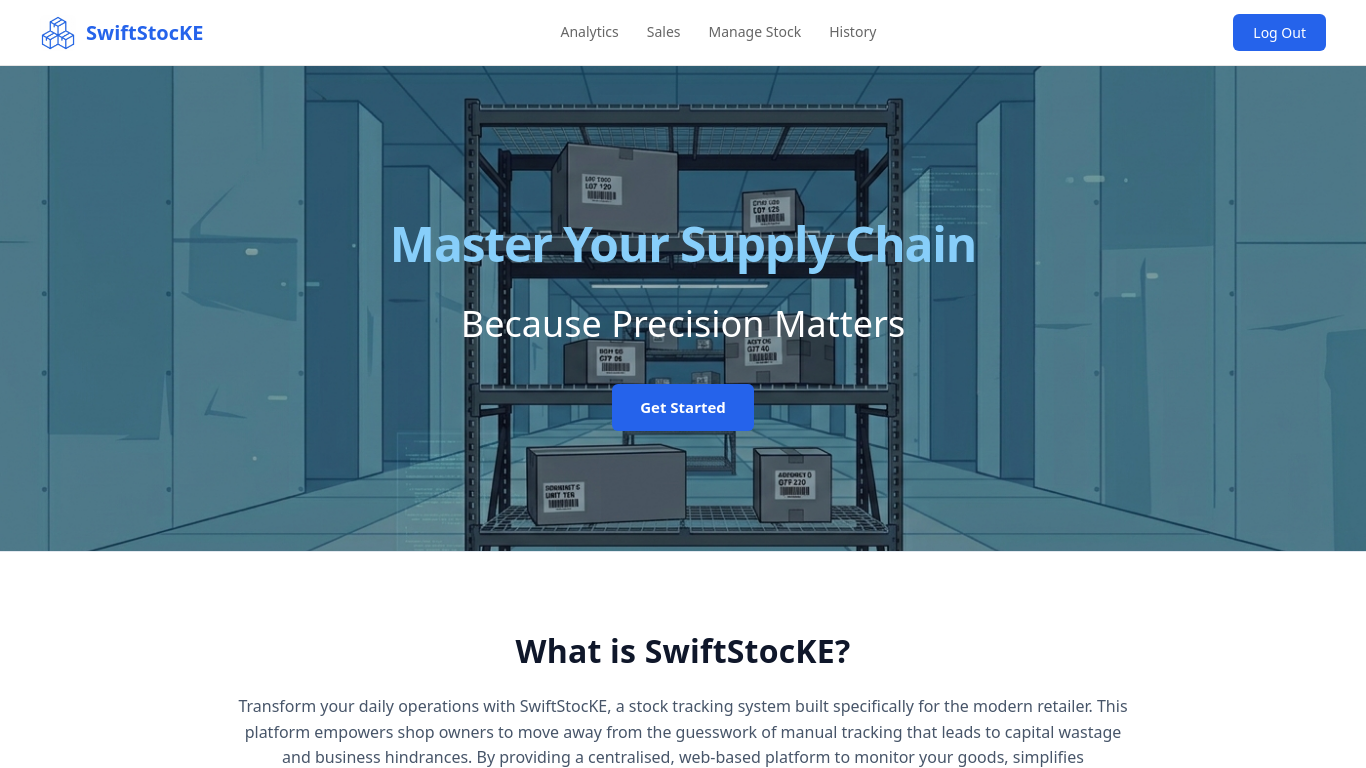
Home Page › navigates to sign up page on CTA button click
Click the link with test id "get-started-btn" at (683, 408), box [612, 384, 754, 431]
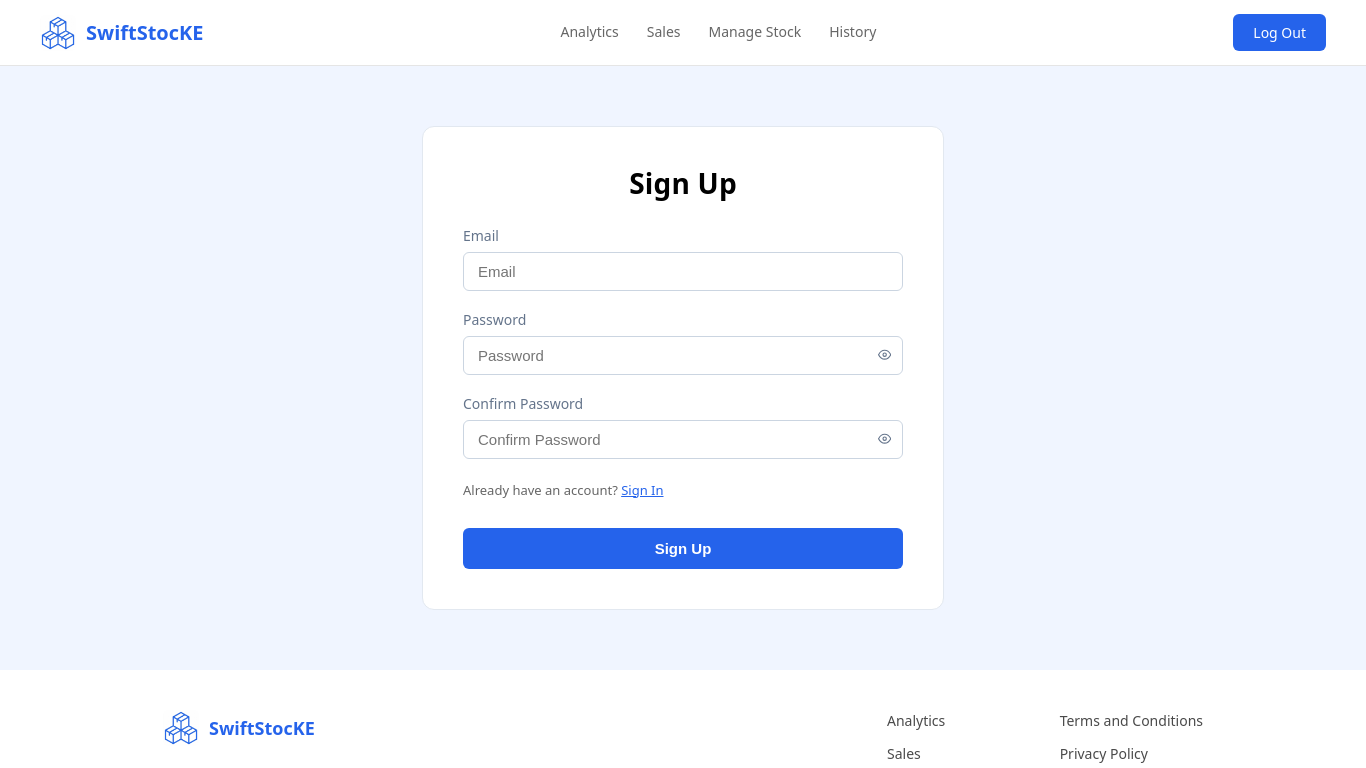
Expected: the heading with test id "signup-title" reads "Sign Up", [629, 164, 737, 202]
